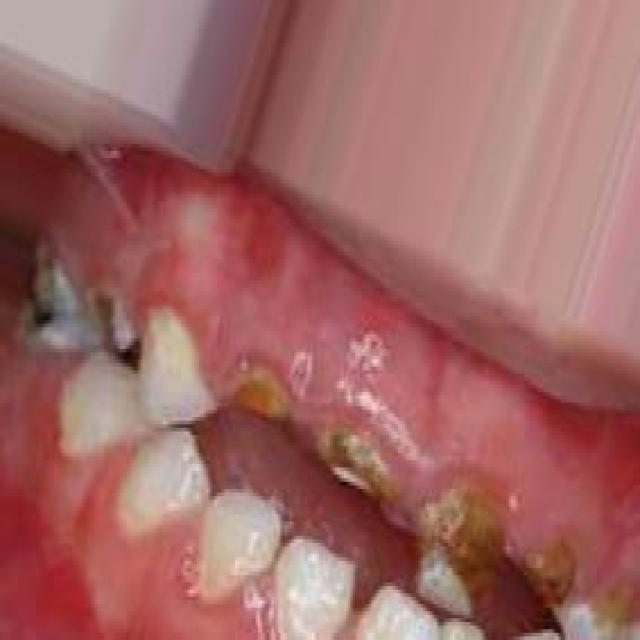caries: (412, 466, 506, 623), (304, 401, 398, 510), (17, 241, 86, 366), (220, 347, 290, 442), (514, 528, 584, 622), (95, 290, 147, 377)
